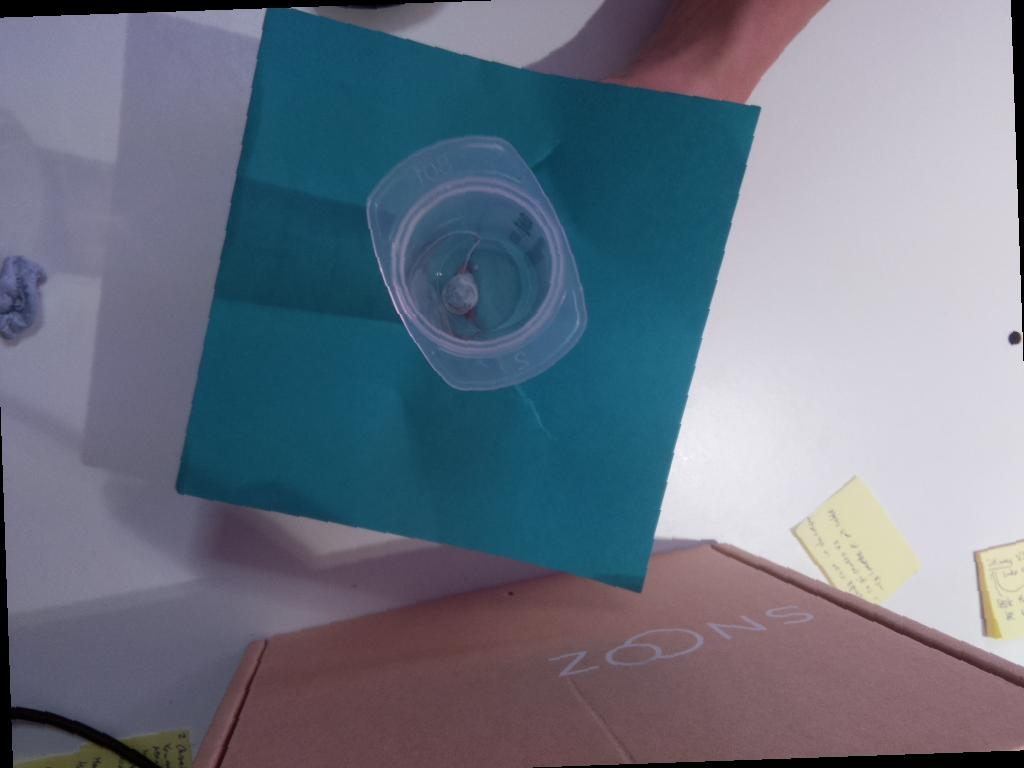clean: (364, 132, 588, 392)
